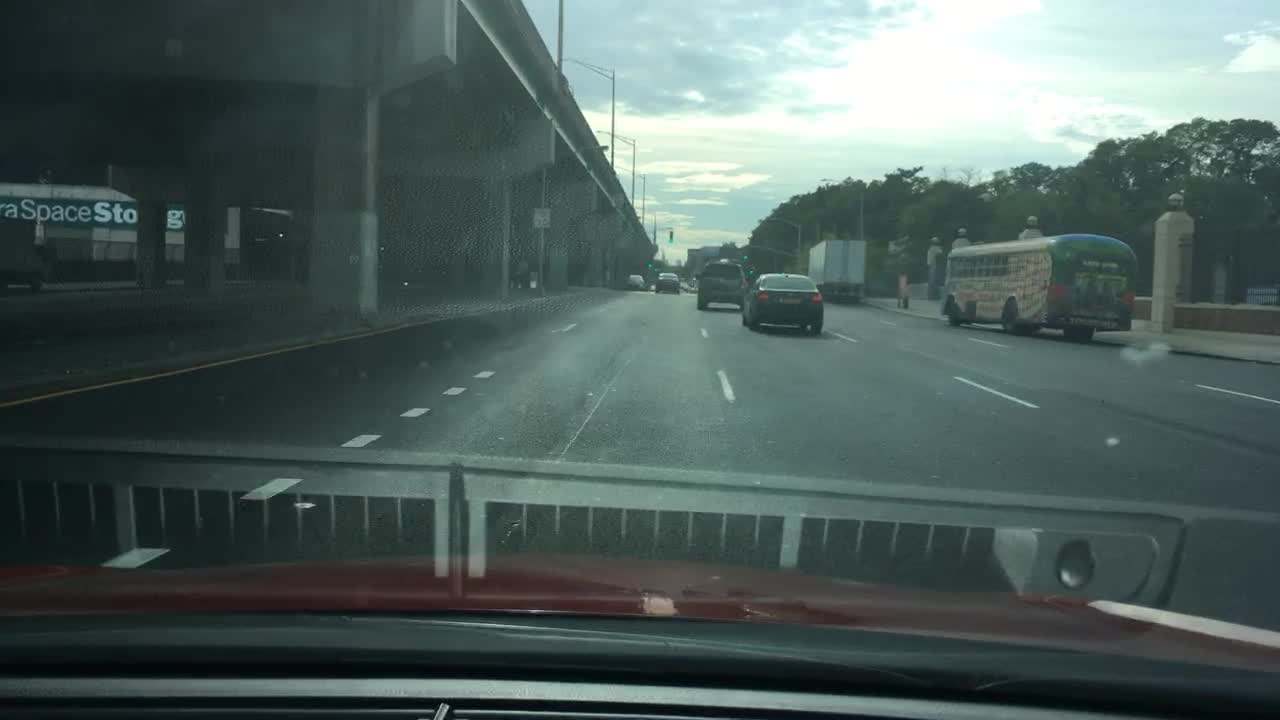bus: (939, 233, 1137, 341)
car: (741, 271, 822, 334), (695, 259, 749, 309), (656, 271, 679, 295), (625, 274, 643, 289), (686, 283, 693, 292), (649, 283, 656, 292), (677, 280, 687, 286), (681, 284, 688, 290)
traffic light: (667, 229, 675, 243), (647, 256, 653, 269), (742, 248, 749, 259), (747, 268, 753, 275)
traffic sign: (532, 206, 551, 229)
truck: (1, 185, 290, 291), (806, 235, 866, 303), (689, 277, 699, 292)
